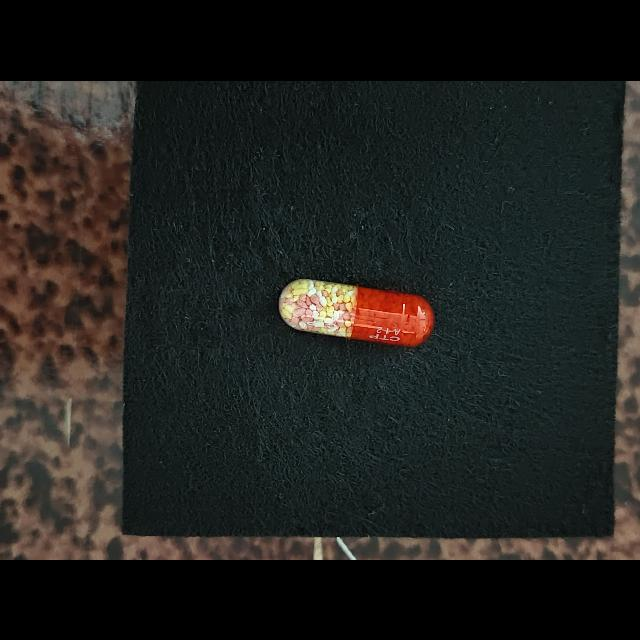Intact Capsule: (279, 278, 434, 346)
